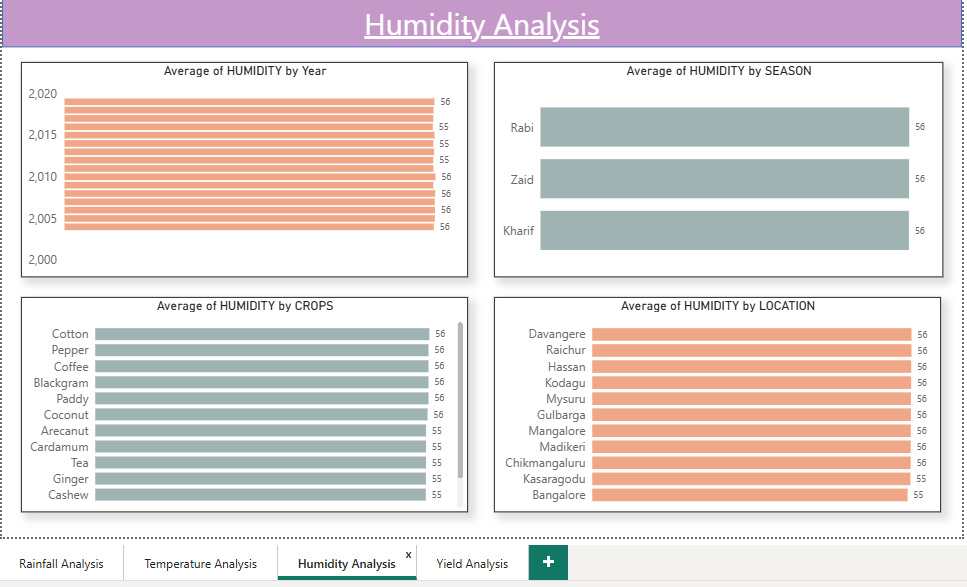

The page's visual inventory and layout, read from the dashboard file:
{"tool":"powerbi","page":{"name":"Humidity Analysis","canvas":[1280,720],"ordinal":2},"visuals":[{"type":"shape","box":[0,0,1280,67.1],"z":0},{"type":"barChart","fields":{"Category":["AGRICULTURE.YEAR"],"Y":["Avg(AGRICULTURE.HUMIDITY)"]},"box":[25.7,87.1,595.7,287.1],"z":1000},{"type":"barChart","fields":{"Category":["AGRICULTURE.SEASON"],"Y":["Avg(AGRICULTURE.HUMIDITY)"]},"box":[655.7,87.1,598.6,287.1],"z":2000},{"type":"barChart","fields":{"Category":["AGRICULTURE.CROPS"],"Y":["Avg(AGRICULTURE.HUMIDITY)"]},"box":[25.7,400,595.7,287.1],"z":3000},{"type":"barChart","fields":{"Category":["AGRICULTURE.LOCATION"],"Y":["Avg(AGRICULTURE.HUMIDITY)"]},"box":[655.7,400,595.7,287.1],"z":4000}]}

Visuals, with their boxes on the page's 1280x720 design canvas (x1, y1, x2, y2). These are canvas units, not pixel positions in the 967x587 screenshot, which may show the page scaled, cropped or inside an application window:
shape: pyautogui.locateOnScreen(0, 0, 1280, 67)
barChart - AGRICULTURE.YEAR x Avg(AGRICULTURE.HUMIDITY): pyautogui.locateOnScreen(26, 87, 621, 374)
barChart - AGRICULTURE.SEASON x Avg(AGRICULTURE.HUMIDITY): pyautogui.locateOnScreen(656, 87, 1254, 374)
barChart - AGRICULTURE.CROPS x Avg(AGRICULTURE.HUMIDITY): pyautogui.locateOnScreen(26, 400, 621, 687)
barChart - AGRICULTURE.LOCATION x Avg(AGRICULTURE.HUMIDITY): pyautogui.locateOnScreen(656, 400, 1251, 687)
